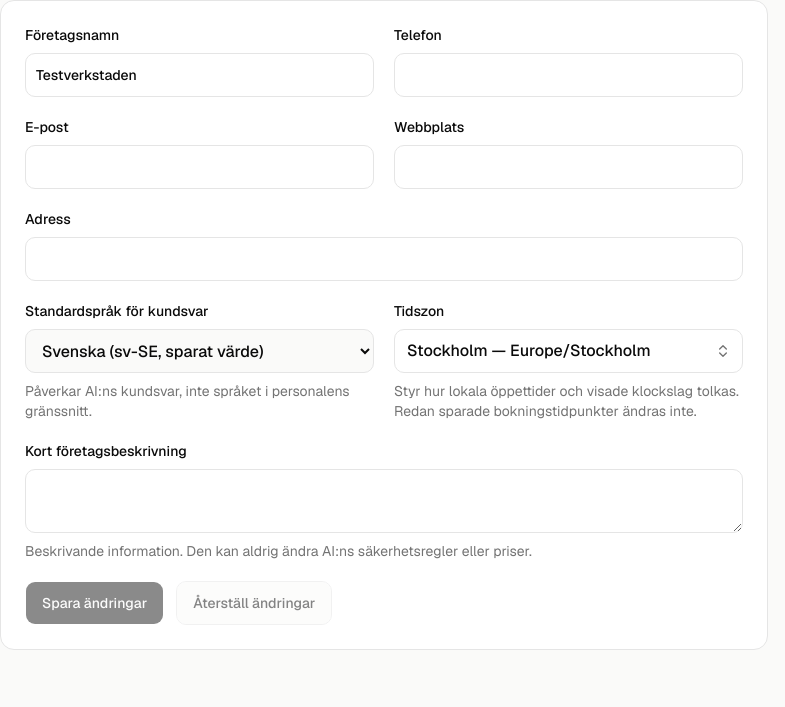
Test: settings navigation and selectors › searches IANA timezones by city and retains a saved alias
Replace the text in the dropdown labelled "Tidszon" with "Tokyo" at point(568, 351), box [394,329,743,373]
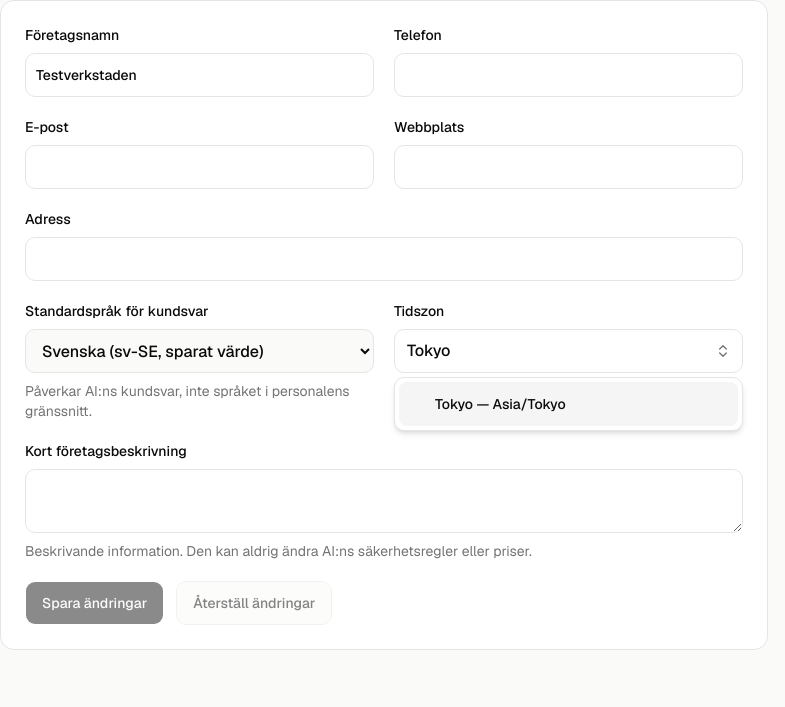
Press the mouse on the option "Tokyo — Asia/Tokyo" at point(568, 404), box [399,382,738,426]
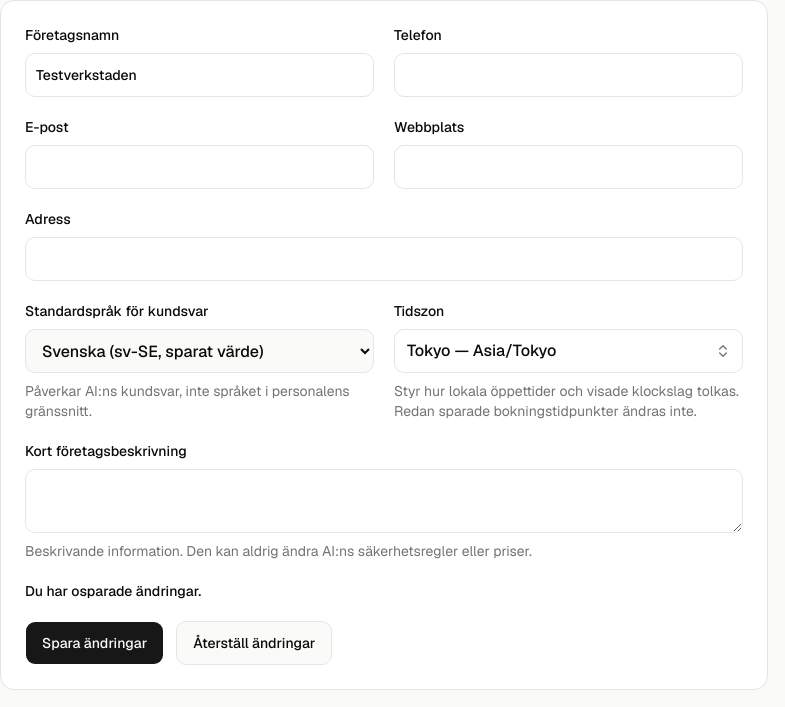
Expected: the dropdown labelled "Tidszon" holds "Tokyo — Asia/Tokyo"
Replace the text in the dropdown labelled "Tidszon" with "London" at point(568, 351), box [394,329,743,373]
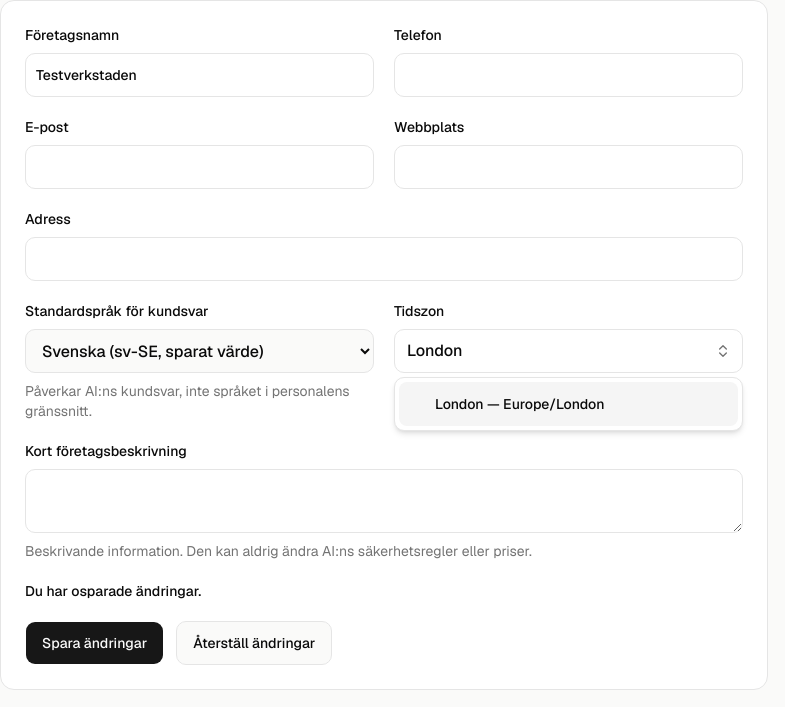
Press Enter in the dropdown labelled "Tidszon", box [394,329,743,373]
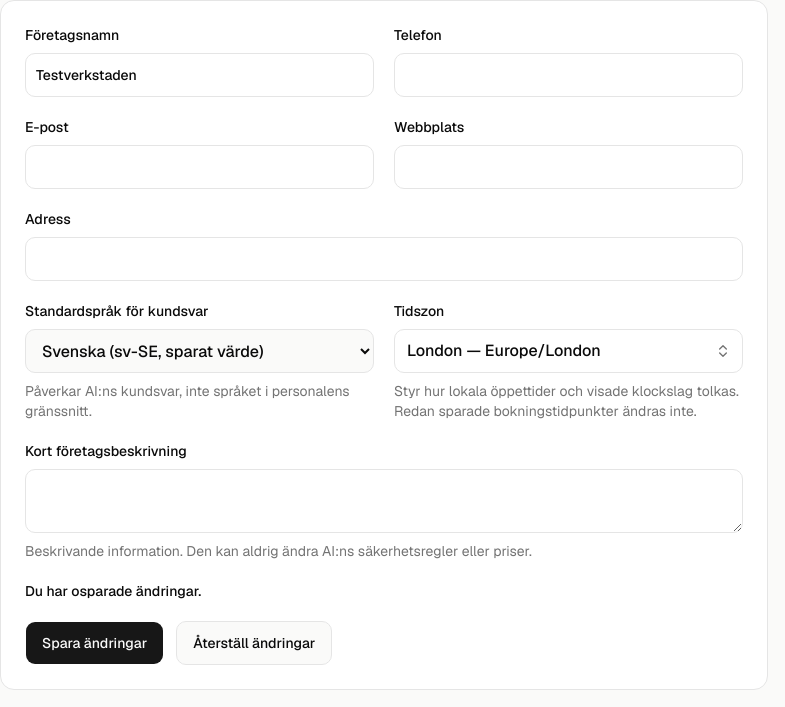
Expected: the dropdown labelled "Tidszon" holds "London — Europe/London", [394,329,743,373]
